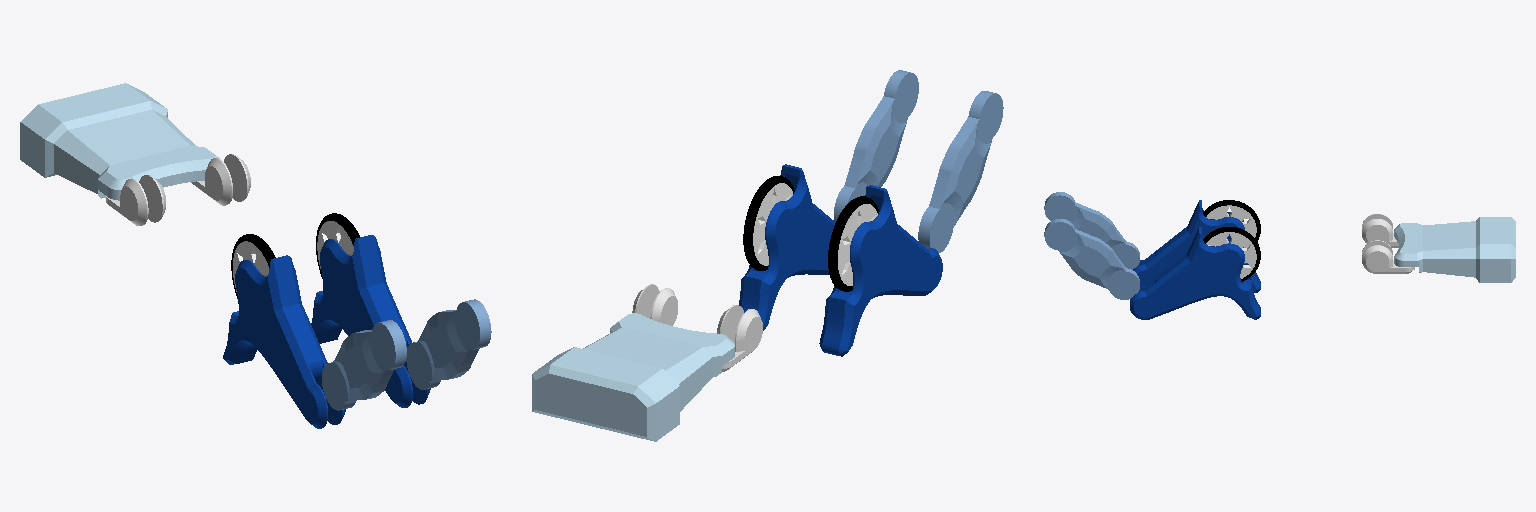
URDF robot description (biped):
<?xml version="1.0"?>
<robot name="biped">
    <link name="torso">
        <visual>
            <origin xyz="0 0 0" rpy="0 -0 0" />
            <geometry>
                <mesh filename="package://biped/torso.obj"/>
            </geometry>
            <material name="torso_material">
                <color rgba="0.76862745098039220171 0.88627450980392152857 0.95294117647058818044 1.0"/>
            </material>
        </visual>
        <collision>
            <origin xyz="0 0 0" rpy="0 -0 0" />
            <geometry>
                <mesh filename="package://biped/torso.obj"/>
            </geometry>
        </collision>
        <inertial>
            <origin xyz="0.16499999816578850287 0.027145333083100121191 1.1397137081604502562" rpy="0 0 0"/>
            <mass value="43.138120115070030636" />
            <inertia ixx="1.0448465166717080255" ixy="-4.1170359315204493975e-08"  ixz="9.2827025673304821543e-08" iyy="1.5471078468073025114" iyz="-0.020804212152586733925" izz="0.64491215776618904254" />
        </inertial>
    </link>
    <link name="left_coxa">
        <visual>
            <origin xyz="-0.31500000000000000222 -0.83446521314972998962 0.04442423553262969671" rpy="-1.570796326794896558 -0 0" />
            <geometry>
                <mesh filename="package://biped/left_coxa.obj"/>
            </geometry>
            <material name="left_coxa_material">
                <color rgba="0.91764705882352937127 0.91764705882352937127 0.91764705882352937127 1.0"/>
            </material>
        </visual>
        <collision>
            <origin xyz="-0.31500000000000000222 -0.83446521314972998962 0.04442423553262969671" rpy="-1.570796326794896558 -0 0" />
            <geometry>
                <mesh filename="package://biped/left_coxa.obj"/>
            </geometry>
        </collision>
        <inertial>
            <origin xyz="0 -0.090818300238879601238 0.01636466880797040474" rpy="0 0 0"/>
            <mass value="1.156123696609517415" />
            <inertia ixx="0.0063095952447390973514" ixy="0"  ixz="0" iyy="0.0029985481606530435712" iyz="0.0015427683188057430066" izz="0.0059689235358662932895" />
        </inertial>
    </link>
    <link name="left_femur">
        <visual>
            <origin xyz="-0.10942423553262999036 0.70446521314972998518 -0.9738230000000001052" rpy="-1.570796326794896558 -1.570796326794896558 0" />
            <geometry>
                <mesh filename="package://biped/left_femur.obj"/>
            </geometry>
            <material name="left_femur_material">
                <color rgba="0.54117647058823525885 0.68235294117647060652 0.83921568627450982003 1.0"/>
            </material>
        </visual>
        <collision>
            <origin xyz="-0.10942423553262999036 0.70446521314972998518 -0.9738230000000001052" rpy="-1.570796326794896558 -1.570796326794896558 0" />
            <geometry>
                <mesh filename="package://biped/left_femur.obj"/>
            </geometry>
        </collision>
        <inertial>
            <origin xyz="-0.12971287551139976113 0.15223047101712061657 -0.019999953319697505449" rpy="0 0 0"/>
            <mass value="4.1258994250157607908" />
            <inertia ixx="0.048048495197180719762" ixy="0.032652119805037474465"  ixz="7.0249969158766291046e-09" iyy="0.037549187361512623151" iyz="1.3861588783688298931e-09" izz="0.08392201136951737972" />
        </inertial>
    </link>
    <link name="right_tibia">
        <visual>
            <origin xyz="0.24999999999999997224 -0.4000000000000000222 0.039999999999999980016" rpy="1.570796326794896558 1.570796326794896558 0" />
            <geometry>
                <mesh filename="package://biped/right_tibia.obj"/>
            </geometry>
            <material name="right_tibia_material">
                <color rgba="0.08627450980392156743 0.31764705882352939348 0.69019607843137253944 1.0"/>
            </material>
        </visual>
        <collision>
            <origin xyz="0.24999999999999997224 -0.4000000000000000222 0.039999999999999980016" rpy="1.570796326794896558 1.570796326794896558 0" />
            <geometry>
                <mesh filename="package://biped/right_tibia.obj"/>
            </geometry>
        </collision>
        <inertial>
            <origin xyz="0.11124579361318227833 -0.25522984039344637219 0.025003719708375362479" rpy="0 0 0"/>
            <mass value="10.152305268561223173" />
            <inertia ixx="0.22219984850749741057" ixy="0.021328750435331993163"  ixz="-2.6874935552631969771e-06" iyy="0.097167464113988966101" iyz="4.355005189243083947e-06" izz="0.29991385615329618775" />
        </inertial>
    </link>
    <link name="right_wheel">
        <visual>
            <origin xyz="-2.0152712144663962269e-17 0 0" rpy="1.570796326794896558 1.570796326794896558 0" />
            <geometry>
                <mesh filename="package://biped/right_wheel.obj"/>
            </geometry>
            <material name="right_wheel_material">
                <color rgba="1 1 1 1.0"/>
            </material>
        </visual>
        <collision>
            <origin xyz="-2.0152712144663962269e-17 0 0" rpy="1.570796326794896558 1.570796326794896558 0" />
            <geometry>
                <mesh filename="package://biped/right_wheel.obj"/>
            </geometry>
        </collision>
        <visual>
            <origin xyz="-2.9693691262536401288e-17 0 0" rpy="1.570796326794896558 1.570796326794896558 0" />
            <geometry>
                <mesh filename="package://biped/right_tyre.obj"/>
            </geometry>
            <material name="right_tyre_material">
                <color rgba="0 0 0 1.0"/>
            </material>
        </visual>
        <collision>
            <origin xyz="-2.9693691262536401288e-17 0 0" rpy="1.570796326794896558 1.570796326794896558 0" />
            <geometry>
                <mesh filename="package://biped/right_tyre.obj"/>
            </geometry>
        </collision>
        <inertial>
            <origin xyz="-2.2103674099589872178e-17 4.6802179718146496856e-18 -0.01500000000000000118" rpy="0 0 0"/>
            <mass value="1.9048430624490766405" />
            <inertia ixx="0.010961434779011845417" ixy="7.7029659710326053719e-35"  ixz="1.0584451485861138735e-35" iyy="0.010961434779011841947" iyz="-7.6596803199766537502e-36" izz="0.021649862121902452294" />
        </inertial>
    </link>
    <joint name="wheel_l" type="continuous">
        <origin xyz="0.24999999999999705791 -0.3999999999999975242 0.0099999999999998423483" rpy="-3.141592653589793116 1.942890293094124279e-16 2.7755575615628568384e-17" />
        <parent link="right_tibia" />
        <child link="right_wheel" />
        <axis xyz="0 0 1"/>
        <limit effort="1" velocity="20" />
        <joint_properties friction="0.0"/>
    </joint>
    <joint name="tibia_l" type="revolute">
        <origin xyz="-0.25942423553262999869 0.30446521314972996297 0.0050000000000000044409" rpy="3.141592653589793116 1.9428902930940873011e-16 2.7755575615627921271e-17" />
        <parent link="left_femur" />
        <child link="right_tibia" />
        <axis xyz="0 0 1"/>
        <limit effort="1" velocity="20" lower="-1.3089969389957472057" upper="0.52359877559829881566"/>
        <joint_properties friction="0.0"/>
    </joint>
    <joint name="femur_l" type="revolute">
        <origin xyz="-0.019999999999999962252 -0.13000000000000000444 0.034999999999999920064" rpy="-3.141592653589793116 1.570796326794896558 0" />
        <parent link="left_coxa" />
        <child link="left_femur" />
        <axis xyz="0 0 1"/>
        <limit effort="1" velocity="20" lower="-1.0471975511965976313" upper="1.3089969389957472057"/>
        <joint_properties friction="0.0"/>
    </joint>
    <joint name="coxa_l" type="revolute">
        <origin xyz="0.31500000000000000222 0.04442423553262969671 0.83446521314972998962" rpy="1.570796326794896558 -0 0" />
        <parent link="torso" />
        <child link="left_coxa" />
        <axis xyz="0 0 1"/>
        <limit effort="1" velocity="20" lower="-0.26179938779914940783" upper="1.570796326794896558"/>
        <joint_properties friction="0.0"/>
    </joint>
    <link name="right_coxa">
        <visual>
            <origin xyz="-0.31500000000000000222 -0.83446521314972998962 0.04442423553262969671" rpy="-1.570796326794896558 -0 0" />
            <geometry>
                <mesh filename="package://biped/right_coxa.obj"/>
            </geometry>
            <material name="right_coxa_material">
                <color rgba="0.91764705882352937127 0.91764705882352937127 0.91764705882352937127 1.0"/>
            </material>
        </visual>
        <collision>
            <origin xyz="-0.31500000000000000222 -0.83446521314972998962 0.04442423553262969671" rpy="-1.570796326794896558 -0 0" />
            <geometry>
                <mesh filename="package://biped/right_coxa.obj"/>
            </geometry>
        </collision>
        <inertial>
            <origin xyz="0 -0.090818300238879601238 0.016364668807970401271" rpy="0 0 0"/>
            <mass value="1.156123696609517193" />
            <inertia ixx="0.006309595244739096484" ixy="0"  ixz="0" iyy="0.0029985481606530431375" iyz="0.0015427683188057432235" izz="0.0059689235358662932895" />
        </inertial>
    </link>
    <link name="right_femur">
        <visual>
            <origin xyz="-0.10942423553262999036 0.70446521314972998518 -0.97382299999999999418" rpy="-1.570796326794896558 -1.570796326794896558 0" />
            <geometry>
                <mesh filename="package://biped/right_femur.obj"/>
            </geometry>
            <material name="right_femur_material">
                <color rgba="0.54117647058823525885 0.68235294117647060652 0.83921568627450982003 1.0"/>
            </material>
        </visual>
        <collision>
            <origin xyz="-0.10942423553262999036 0.70446521314972998518 -0.97382299999999999418" rpy="-1.570796326794896558 -1.570796326794896558 0" />
            <geometry>
                <mesh filename="package://biped/right_femur.obj"/>
            </geometry>
        </collision>
        <inertial>
            <origin xyz="-0.12971287551139976113 0.15223047101712061657 -0.019999953319697394427" rpy="0 0 0"/>
            <mass value="4.1258994250157599026" />
            <inertia ixx="0.048048495197180719762" ixy="0.032652119805037474465"  ixz="7.0249969159149168136e-09" iyy="0.037549187361512623151" iyz="1.3861588783966744469e-09" izz="0.08392201136951737972" />
        </inertial>
    </link>
    <link name="left_tibia">
        <visual>
            <origin xyz="0.25 -0.4000000000000000222 0.040000000000000000833" rpy="1.570796326794896558 1.570796326794896558 0" />
            <geometry>
                <mesh filename="package://biped/left_tibia.obj"/>
            </geometry>
            <material name="left_tibia_material">
                <color rgba="0.08627450980392156743 0.31764705882352939348 0.69019607843137253944 1.0"/>
            </material>
        </visual>
        <collision>
            <origin xyz="0.25 -0.4000000000000000222 0.040000000000000000833" rpy="1.570796326794896558 1.570796326794896558 0" />
            <geometry>
                <mesh filename="package://biped/left_tibia.obj"/>
            </geometry>
        </collision>
        <inertial>
            <origin xyz="0.11124579361318234771 -0.25522984039344637219 0.025003719708375376357" rpy="0 0 0"/>
            <mass value="10.152305268561223173" />
            <inertia ixx="0.22219984850749738281" ixy="0.021328750435331993163"  ixz="-2.6874935552633807833e-06" iyy="0.097167464113988966101" iyz="4.3550051892444951039e-06" izz="0.29991385615329618775" />
        </inertial>
    </link>
    <link name="left_wheel">
        <visual>
            <origin xyz="-2.3709073111369384777e-17 -1.0669082900116168915e-17 -1.2004286453759002195e-15" rpy="1.570796326794896558 1.570796326794896558 0" />
            <geometry>
                <mesh filename="package://biped/left_tyre.obj"/>
            </geometry>
            <material name="left_tyre_material">
                <color rgba="0 0 0 1.0"/>
            </material>
        </visual>
        <collision>
            <origin xyz="-2.3709073111369384777e-17 -1.0669082900116168915e-17 -1.2004286453759002195e-15" rpy="1.570796326794896558 1.570796326794896558 0" />
            <geometry>
                <mesh filename="package://biped/left_tyre.obj"/>
            </geometry>
        </collision>
        <visual>
            <origin xyz="-2.3709073111369384777e-17 -1.0669082900116168915e-17 -1.232595164407830946e-32" rpy="1.570796326794896558 1.570796326794896558 0" />
            <geometry>
                <mesh filename="package://biped/left_wheel.obj"/>
            </geometry>
            <material name="left_wheel_material">
                <color rgba="1 1 1 1.0"/>
            </material>
        </visual>
        <collision>
            <origin xyz="-2.3709073111369384777e-17 -1.0669082900116168915e-17 -1.232595164407830946e-32" rpy="1.570796326794896558 1.570796326794896558 0" />
            <geometry>
                <mesh filename="package://biped/left_wheel.obj"/>
            </geometry>
        </collision>
        <inertial>
            <origin xyz="-2.1564386091417102586e-17 -4.0592049226713965085e-18 -0.015000000000000146896" rpy="0 0 0"/>
            <mass value="1.9048430624490761964" />
            <inertia ixx="0.010961434779011913071" ixy="-3.1755918374372323703e-32"  ixz="-4.4112522545066624189e-17" iyy="0.010961434779011769089" iyz="-2.486837219221214507e-31" izz="0.021649862121901730649" />
        </inertial>
    </link>
    <joint name="wheel_r" type="continuous">
        <origin xyz="0.25 -0.4000000000000000222 0.010000000000000003678" rpy="-3.141592653589793116 6.5503158452882950042e-15 -2.4209276022970736307e-30" />
        <parent link="left_tibia" />
        <child link="left_wheel" />
        <axis xyz="0 0 1"/>
        <limit effort="1" velocity="20" />
        <joint_properties friction="0.0"/>
    </joint>
    <joint name="tibia_r" type="revolute">
        <origin xyz="-0.25942423553262999869 0.30446521314972996297 0.0049999999999999168374" rpy="-3.141592653589793116 -1.0685896612017149451e-15 7.8577941730999485548e-31" />
        <parent link="right_femur" />
        <child link="left_tibia" />
        <axis xyz="0 0 1"/>
        <limit effort="1" velocity="20" lower="-1.3089969389957472057" upper="0.52359877559829881566"/>
        <joint_properties friction="0.0"/>
    </joint>
    <joint name="femur_r" type="revolute">
        <origin xyz="-0.020000000000000017764 -0.13000000000000000444 0.034999999999999920064" rpy="3.141592653589793116 1.5707963267948961139 0" />
        <parent link="right_coxa" />
        <child link="right_femur" />
        <axis xyz="0 0 1"/>
        <limit effort="1" velocity="20" lower="-1.0471975511965976313" upper="1.3089969389957472057"/>
        <joint_properties friction="0.0"/>
    </joint>
    <joint name="coxa_r" type="revolute">
        <origin xyz="0.015000000000000013323 0.04442423553262969671 0.83446521314972998962" rpy="1.570796326794896558 -0 0" />
        <parent link="torso" />
        <child link="right_coxa" />
        <axis xyz="0 0 1"/>
        <limit effort="1" velocity="20" lower="-1.570796326794896558" upper="0.26179938779914940783"/>
        <joint_properties friction="0.0"/>
    </joint>
</robot>

--- Facts derived from the render (not from the file) ---
Views: 3 orthographic renders of the robot side by side, from view 1: azimuth 30°, elevation 25°; view 2: azimuth 150°, elevation 25°; view 3: azimuth 270°, elevation 25°.
Robot: biped — 9 links, 8 joints (6 revolute, 2 continuous); root link torso; default pose: all joints at 0.
Visible links, largest first — view 1: torso, left_tibia, right_tibia, right_femur, left_femur, right_coxa, left_coxa, left_wheel, right_wheel; view 2: torso, left_tibia, right_tibia, right_femur, left_femur, left_wheel, right_wheel, right_coxa, left_coxa; view 3: torso, right_tibia, left_femur, right_femur, left_tibia, right_wheel, left_coxa, left_wheel, right_coxa.
Link boxes in pixels (x1,y1,x2,y2): torso: (20, 83, 219, 200); left_tibia: (223, 255, 345, 428); right_tibia: (311, 235, 430, 407); right_femur: (322, 320, 406, 410); left_femur: (406, 299, 491, 389); right_coxa: (106, 175, 165, 225); left_coxa: (191, 154, 250, 205); left_wheel: (231, 234, 275, 298); right_wheel: (316, 213, 359, 278); torso: (532, 313, 734, 441); left_tibia: (819, 185, 942, 356); right_tibia: (739, 164, 835, 330); right_femur: (918, 91, 1003, 252); left_femur: (834, 70, 918, 221); left_wheel: (828, 196, 878, 291); right_wheel: (743, 176, 794, 270); right_coxa: (717, 305, 762, 371); left_coxa: (632, 284, 677, 325); torso: (1394, 217, 1515, 282); right_tibia: (1130, 227, 1260, 319); left_femur: (1044, 219, 1139, 299); right_femur: (1044, 192, 1139, 269); left_tibia: (1133, 200, 1260, 292); right_wheel: (1203, 227, 1260, 281); left_coxa: (1362, 240, 1414, 273); left_wheel: (1203, 200, 1260, 247); right_coxa: (1362, 214, 1398, 247).
Bounding box of the posed robot: 0.4376 × 2.24 × 0.5094 m (x, y, z).
11 mesh visuals loaded from 11 distinct referenced files (11 OBJ).